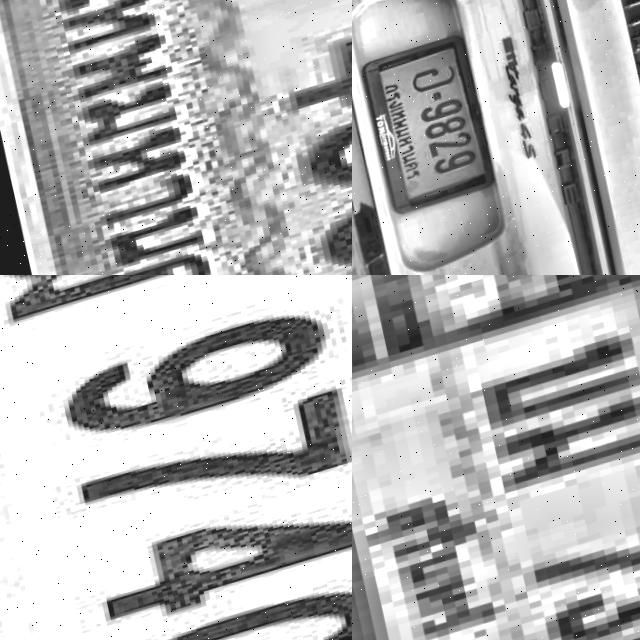license-plate: (0, 275, 352, 640), (352, 275, 640, 640), (0, 0, 352, 275), (352, 27, 511, 226)
